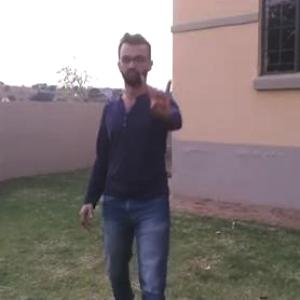takeoff-hand: (137, 66, 177, 120)
